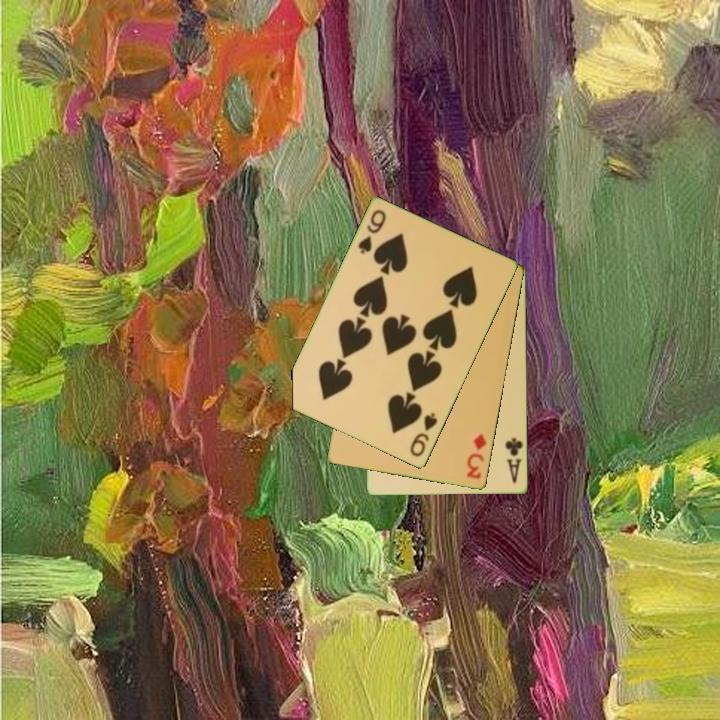3d: (463, 430, 490, 482)
9s: (355, 206, 389, 258), (406, 410, 441, 460)
Ac: (502, 434, 526, 486)
